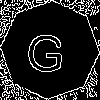G: (25, 25, 66, 73)
